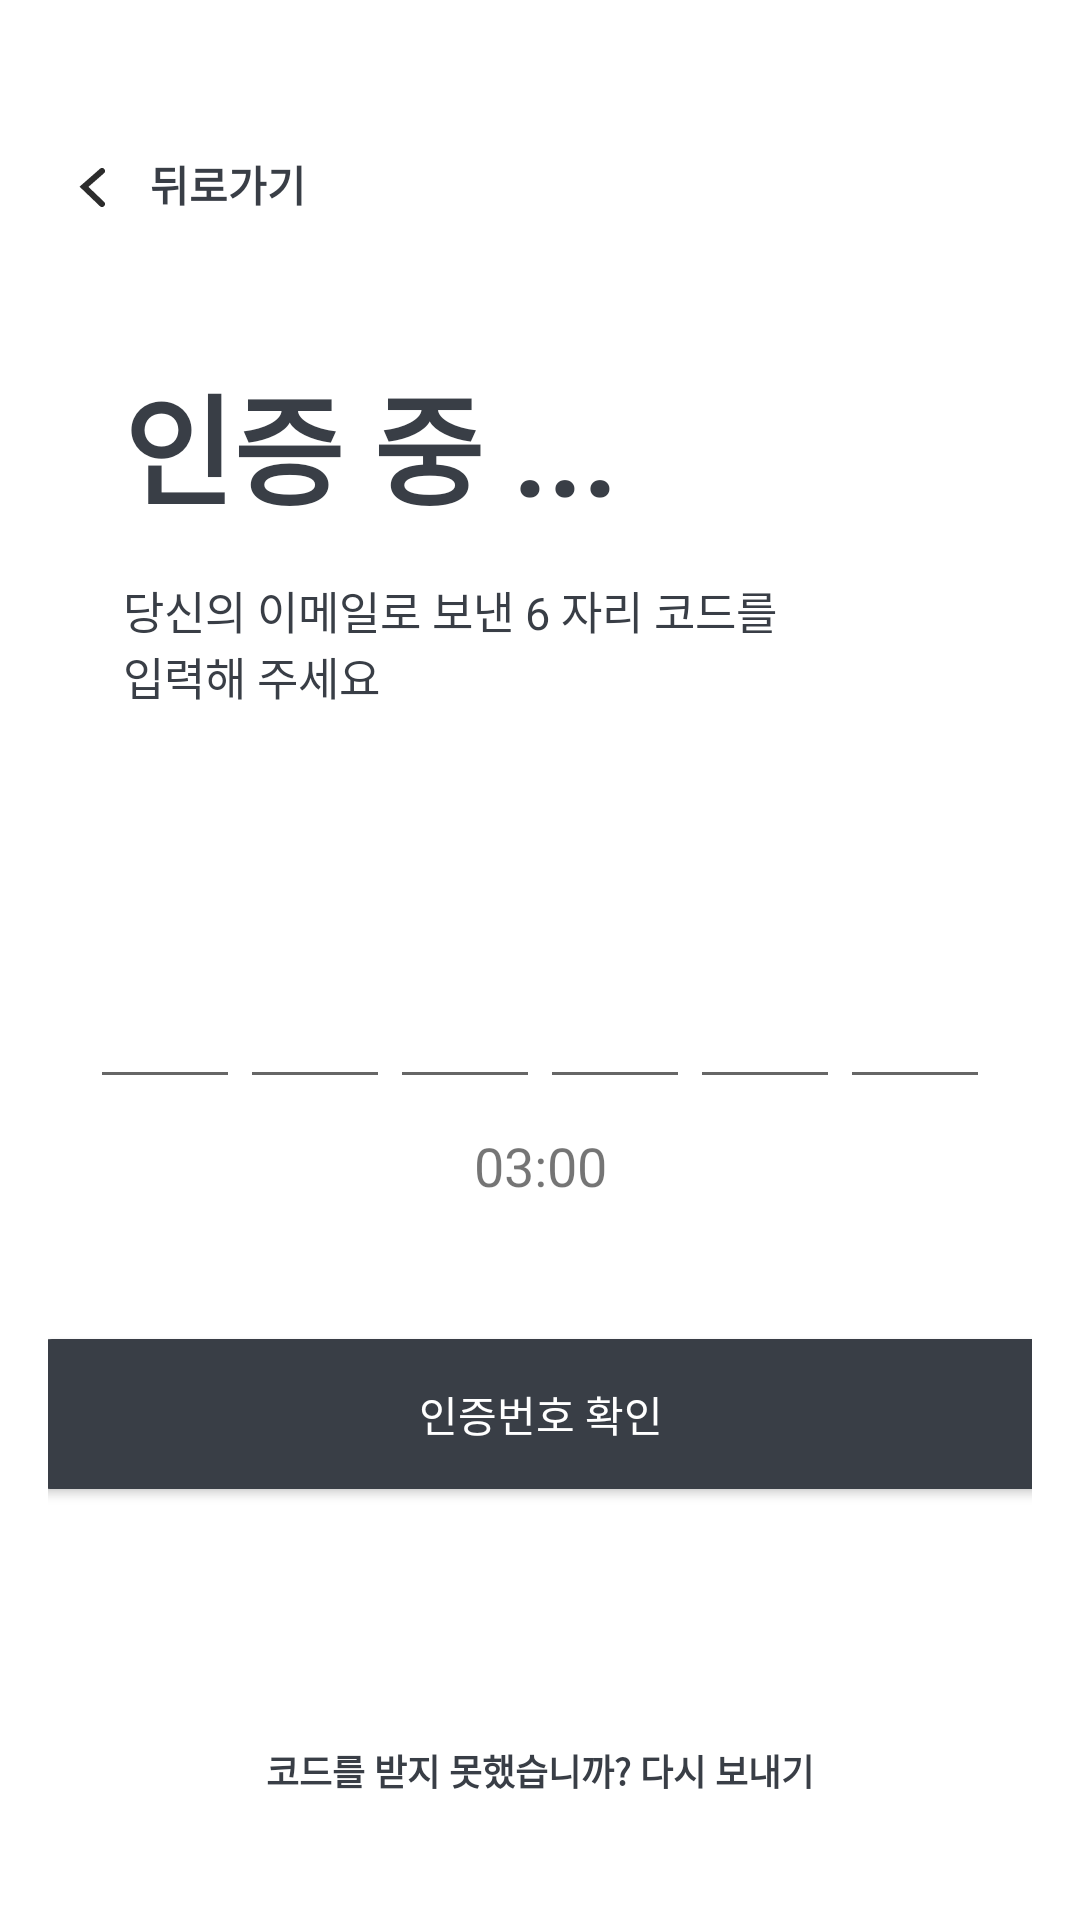

Screen size 1080×1920. Icon name, then its box in pixels as (x1, y1, x2, y2):
arrow: (79, 168, 105, 207)
